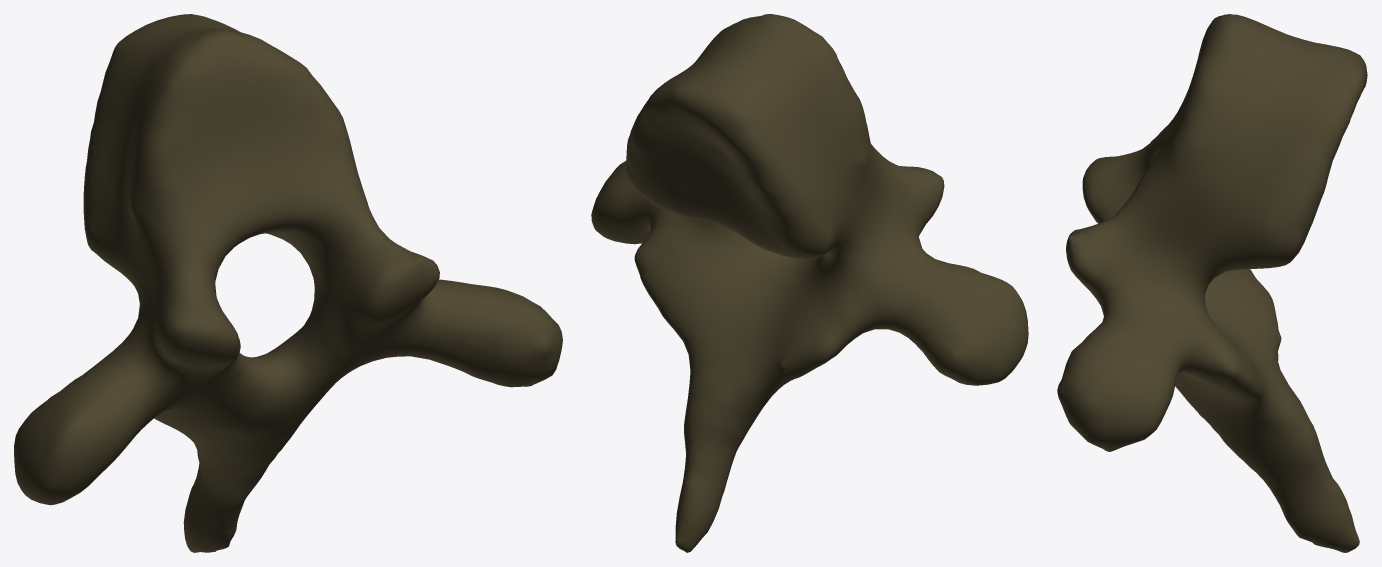
Rendered from segmentations_vertebrae_T3.obj.
3 views of the same model, side by side, from view 1: azimuth 30°, elevation 25°; view 2: azimuth 150°, elevation 25°; view 3: azimuth 270°, elevation 25° (orthographic). The views are drawn at different scales.
Visible parts, largest first — view 1: grp1; view 2: grp1; view 3: grp1.
Part boxes in pixels (left/top/right/bottom): grp1: left=14, top=14, right=562, bottom=552; grp1: left=591, top=14, right=1028, bottom=552; grp1: left=1057, top=14, right=1367, bottom=552.
Size of the model in its own units: 41.11 by 45.04 by 24.51.
